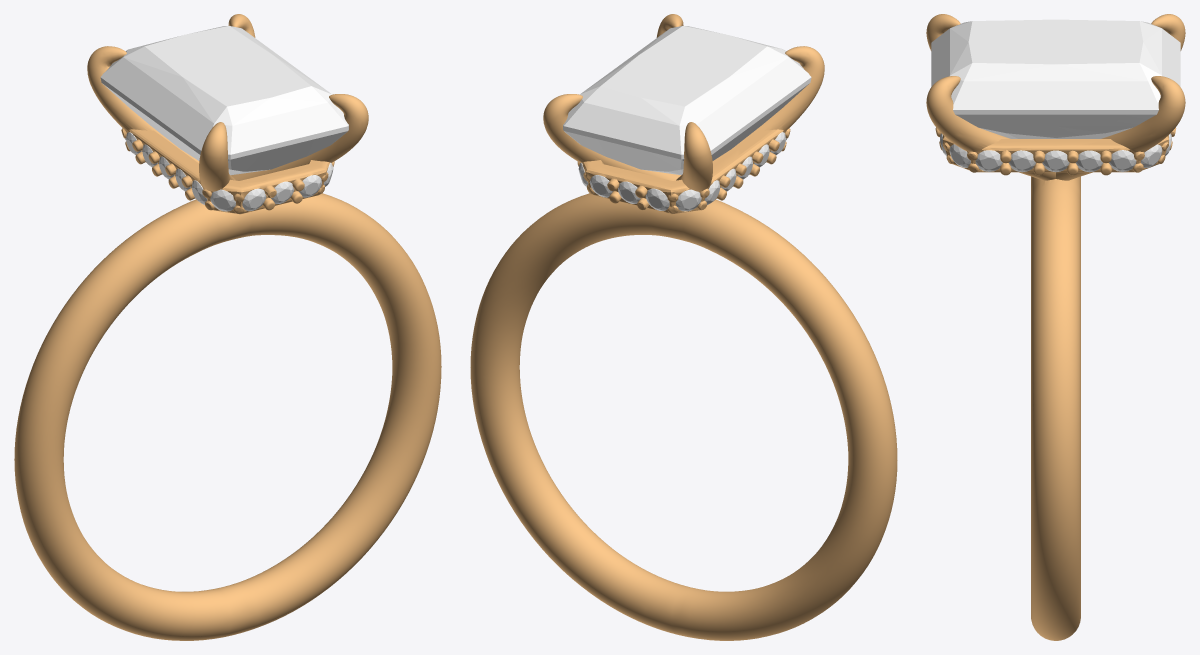
3 views of the same model, side by side, from view 1: azimuth 30°, elevation 25°; view 2: azimuth 150°, elevation 25°; view 3: azimuth 270°, elevation 25° (orthographic).
Visible parts, largest first — view 1: object 1, 3Design CAD STL : part0; view 2: object 1, 3Design CAD STL : part0; view 3: object 1, 3Design CAD STL : part0 (×6).
Boxes of the visible parts, x1,y1,x2,y2 form: object 1: (14,14,441,640); 3Design CAD STL : part0: (100,26,348,175); object 1: (470,14,897,640); 3Design CAD STL : part0: (563,25,811,175); object 1: (926,14,1185,640); 3Design CAD STL : part0 (×6): (931,19,1180,172).
Size of the model in its own units: 2.33 by 3.01 by 1.23.
